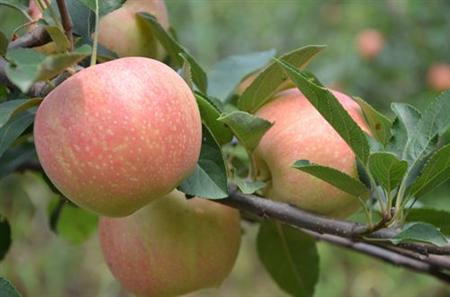apple: (33, 57, 200, 214)
obscured(1)_apple: (98, 190, 241, 295)
obscured(2)_apple: (252, 86, 371, 214), (86, 1, 171, 60)
